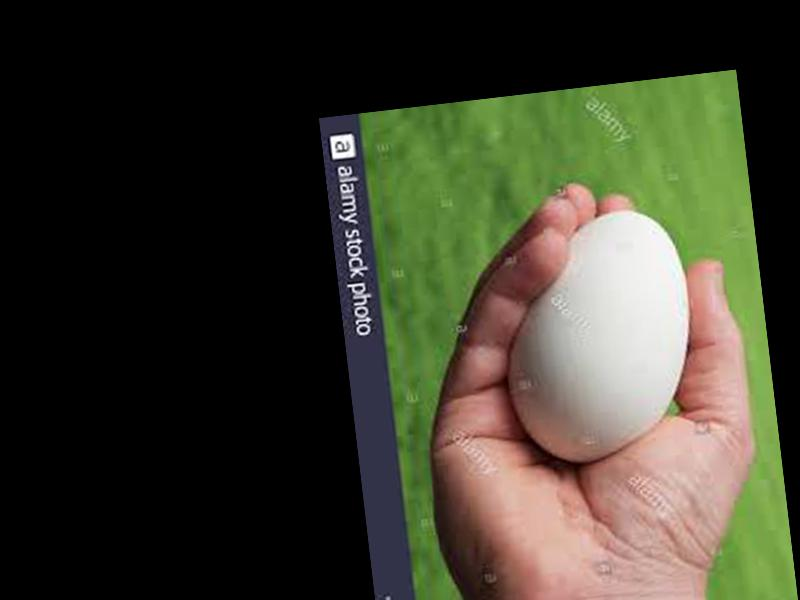Eggs: (489, 205, 707, 474)
